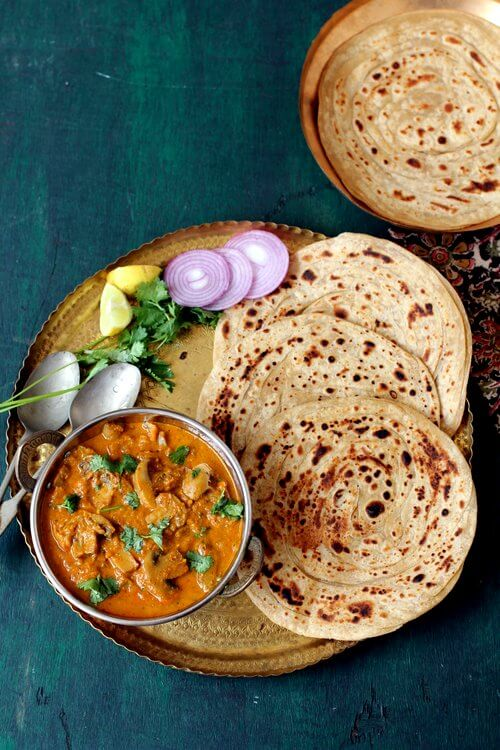curry: (26, 410, 251, 624)
roti: (209, 235, 482, 646), (316, 3, 500, 222)
